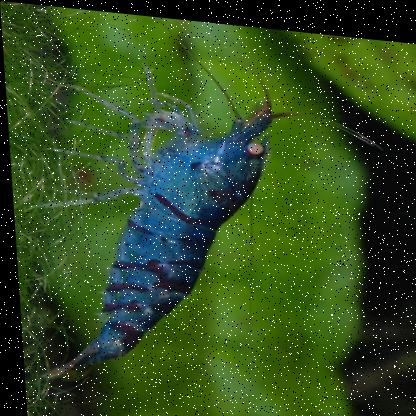shrimp: (23, 72, 289, 398)
